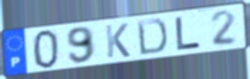0: (32, 29, 60, 70)
2: (209, 10, 239, 48)
9: (66, 25, 98, 65)
D: (136, 18, 170, 57)
K: (104, 22, 132, 60)
L: (174, 15, 203, 52)
